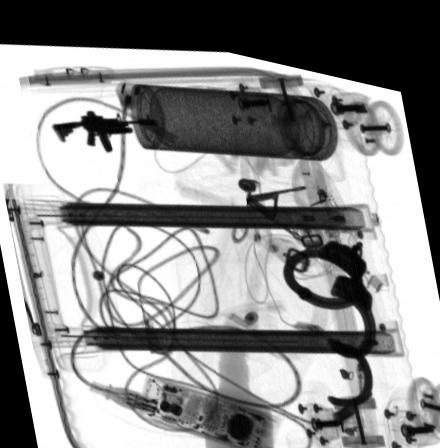Gun: (47, 104, 163, 149)
HandCuffs: (281, 221, 378, 390)
